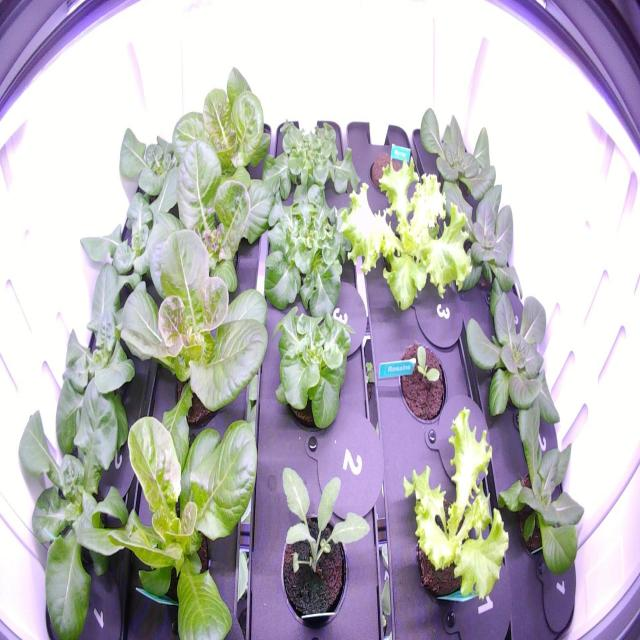germination: (393, 338, 451, 427)
young: (82, 382, 261, 639), (108, 205, 277, 444), (7, 353, 141, 637), (38, 253, 160, 473), (132, 136, 277, 306), (64, 179, 194, 345), (487, 391, 591, 589), (162, 58, 278, 228), (459, 274, 566, 436), (102, 92, 214, 236), (426, 167, 525, 304), (413, 99, 503, 200)
